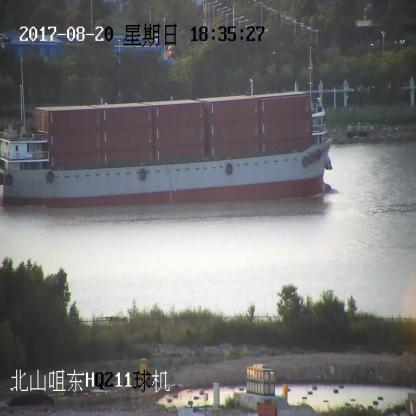Container Ship: (0, 60, 336, 208)
